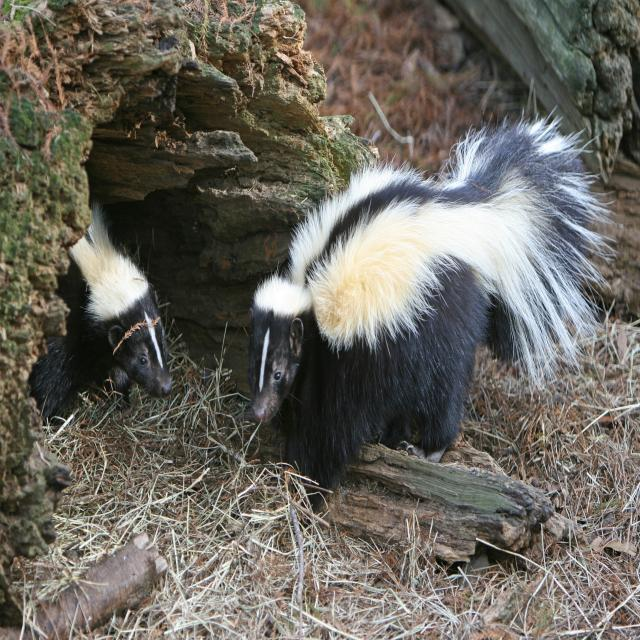Skunk: (227, 106, 627, 489)
